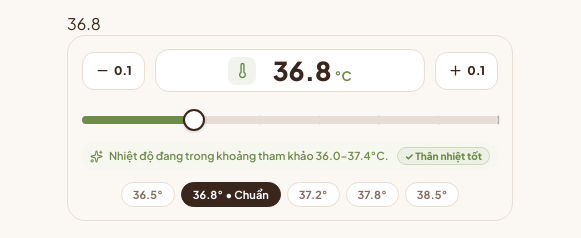
Test case: HavenTemperatureInput › selects preset chips
This screenshot has width=581, height=238.
Click the button "38.5°" at (432, 195), box [405,182,459,207]
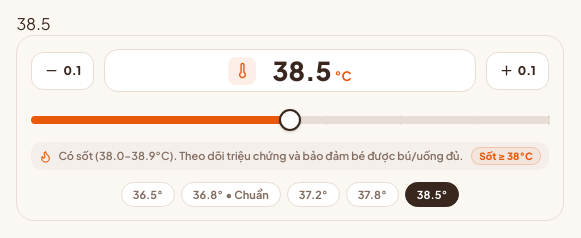
Expected: the text with test id "temp-output" reads "38.5", [16,13,51,34]
